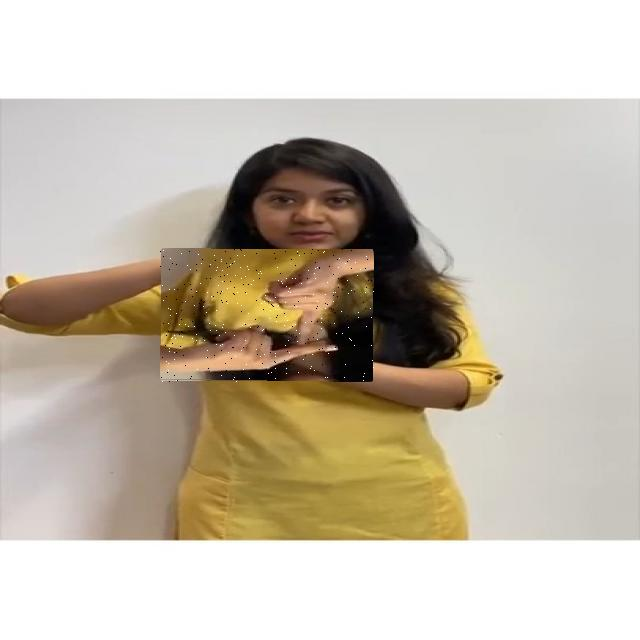T: (160, 249, 374, 382)
